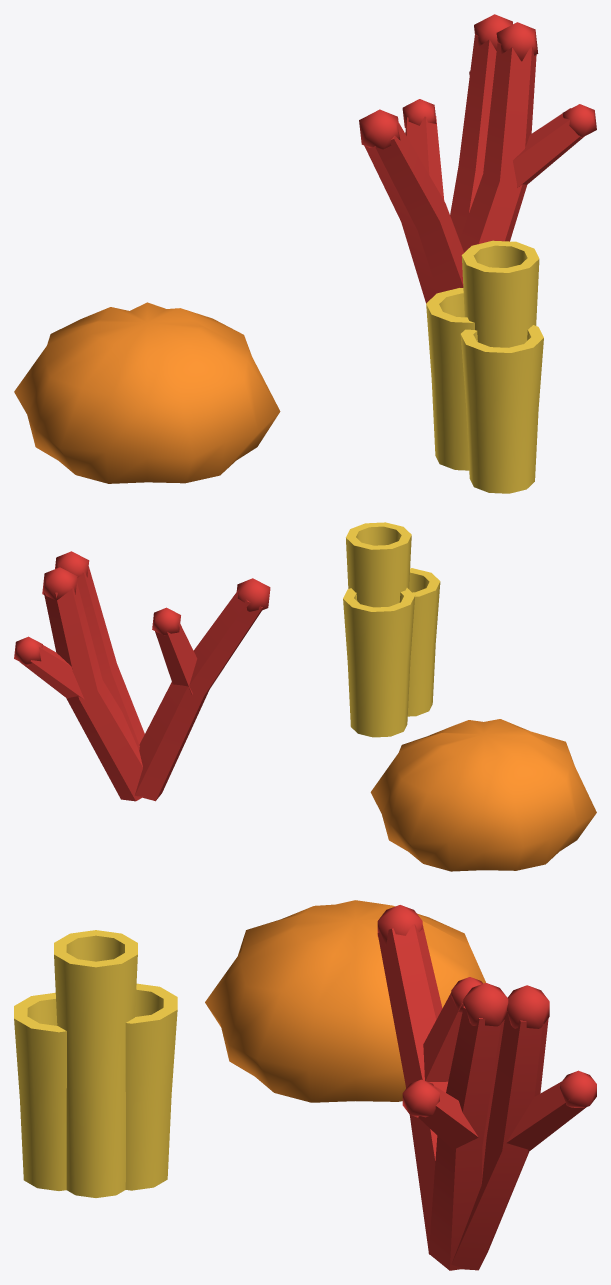
The model's file is CoralBits.fbx.
3 renders of one model, top to bottom at view 1: azimuth 30°, elevation 25°; view 2: azimuth 150°, elevation 25°; view 3: azimuth 270°, elevation 25°, orthographic. The views are drawn at different scales.
Visible parts, largest first — view 1: CoralBits; view 2: CoralBits; view 3: CoralBits.
Boxes of the visible parts, x1,y1,x2,y2 form: CoralBits: [14, 14, 596, 493]; CoralBits: [14, 522, 596, 871]; CoralBits: [14, 900, 596, 1270].
Size of the model in its own units: 0.7392 by 0.3382 by 0.5618.
Materials: 1 (1 with a texture image).
